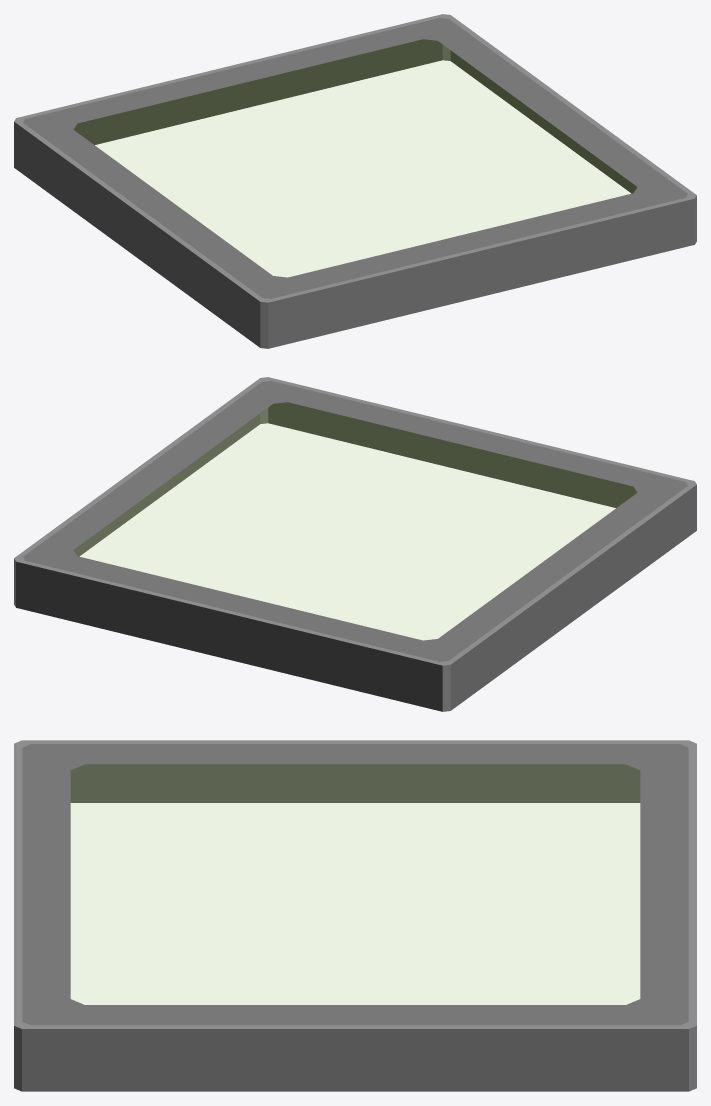
Rendered from StencilSafeDoor.fbx.
3 views of the same model, one above another, from view 1: azimuth 30°, elevation 25°; view 2: azimuth 150°, elevation 25°; view 3: azimuth 270°, elevation 25° (orthographic). The views are drawn at different scales.
Visible parts, largest first — view 1: SafeDoorRim; view 2: SafeDoorRim; view 3: SafeDoorRim.
Boxes of the visible parts, x1,y1,x2,y2 form: SafeDoorRim: [14, 14, 696, 348]; SafeDoorRim: [14, 377, 696, 711]; SafeDoorRim: [14, 740, 696, 1091].
Size of the model in its own units: 61.18 by 6.19 by 61.18.
